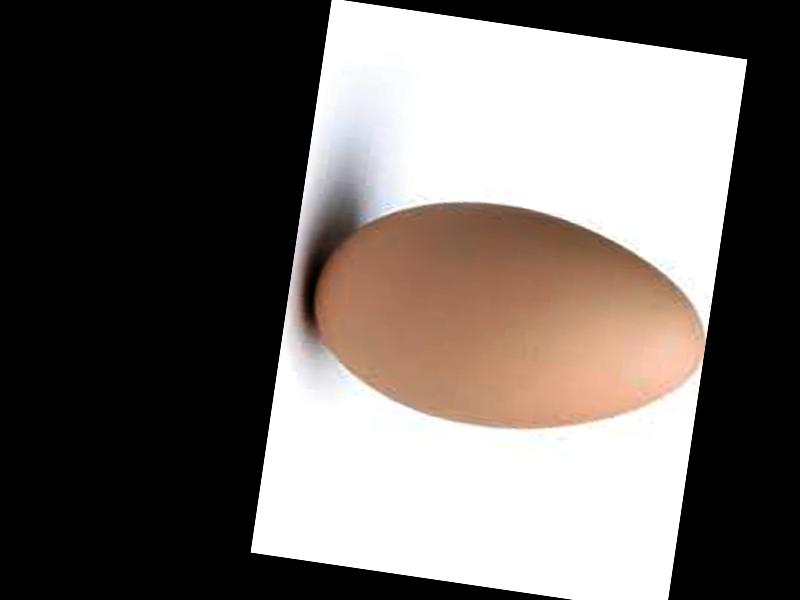Eggs: (295, 179, 718, 454)
